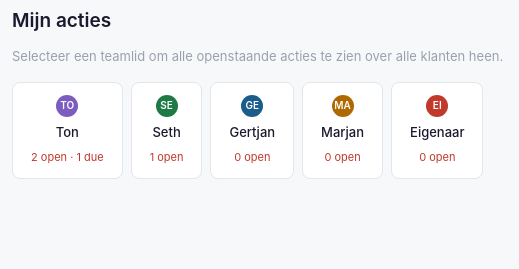
Test: MijnActiesPage › toont een lege staat als het teamlid geen openstaande acties heeft
Step 1. Click the button "MA Marjan 0 open" → point(343, 131), box x1=302 y1=82 x2=383 y2=179
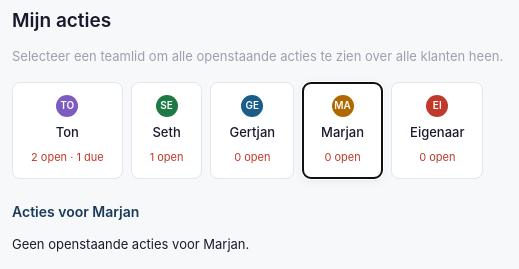
expect the text "Geen openstaande acties voor Marjan." is shown: met, box x1=12 y1=236 x2=249 y2=252
